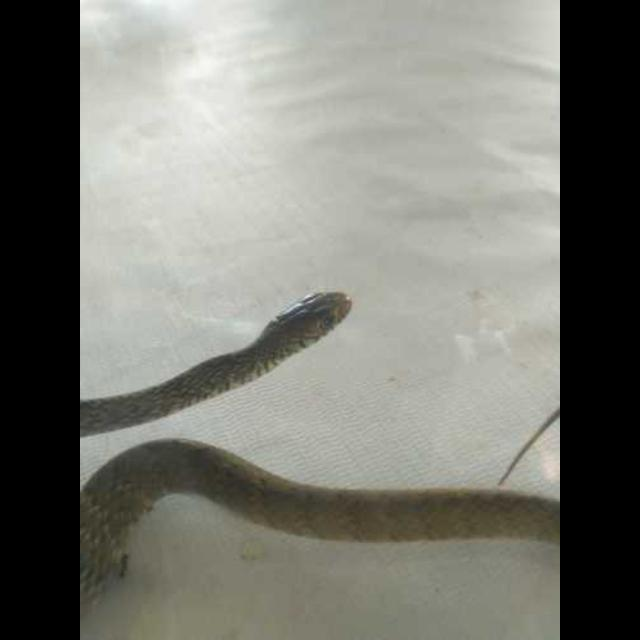snake: (80, 286, 560, 608)
